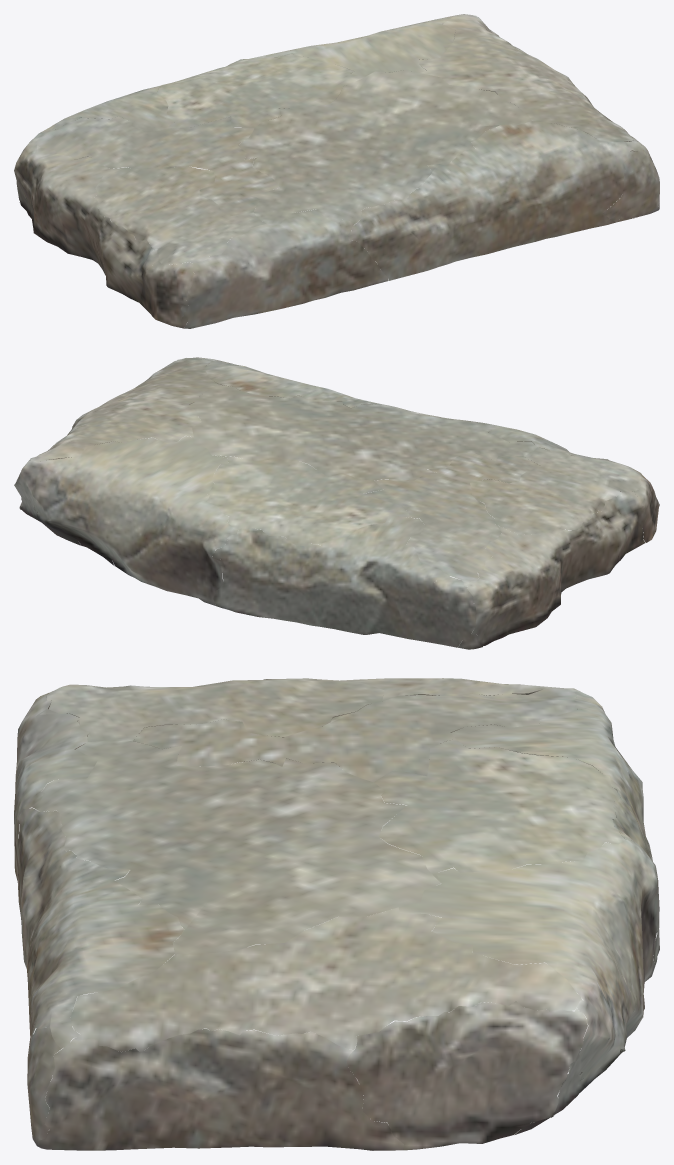
The model's file is Stepping_stones_4.glb.
The picture shows the model from 3 angles, top to bottom: view 1: azimuth 30°, elevation 25°; view 2: azimuth 150°, elevation 25°; view 3: azimuth 270°, elevation 25°; orthographic projection. The views are drawn at different scales.
Visible parts, largest first — view 1: Object_2.005; view 2: Object_2.005; view 3: Object_2.005.
Part boxes in pixels (x1=…): Object_2.005: x1=14, y1=14, x2=659, y2=328; Object_2.005: x1=14, y1=357, x2=659, y2=649; Object_2.005: x1=14, y1=678, x2=659, y2=1150.
Bounding box in the file's own units: 1.11 × 0.1832 × 0.7659.
1 material, 1 textured.
